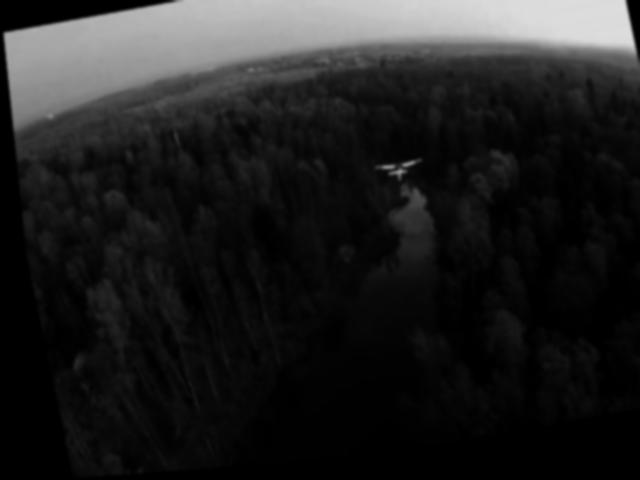hedef: (362, 157, 424, 198)
